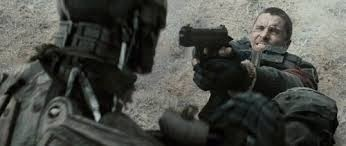pistol: (173, 21, 234, 64)
